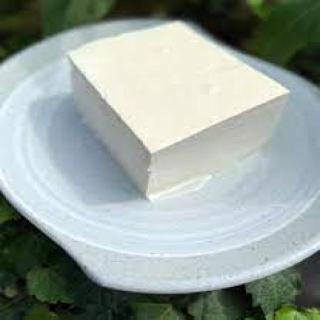Tahu: (49, 18, 301, 205)
